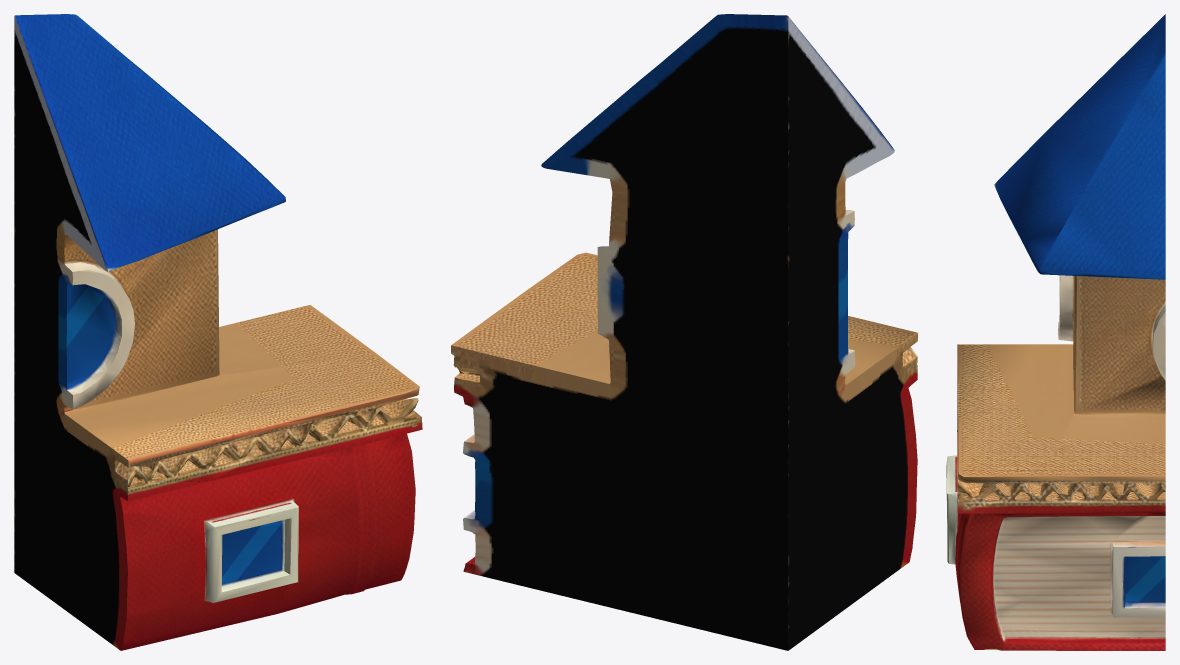
File: 14-topper-front-right.fbx
3 views of the same model, side by side, from view 1: azimuth 30°, elevation 25°; view 2: azimuth 150°, elevation 25°; view 3: azimuth 270°, elevation 25° (orthographic). The views are drawn at different scales.
Visible parts, largest first — view 1: topper-front-right; view 2: topper-front-right; view 3: topper-front-right.
Part boxes in pixels (bbox=[...]): topper-front-right: bbox=[14, 14, 422, 650]; topper-front-right: bbox=[451, 14, 917, 650]; topper-front-right: bbox=[946, 14, 1165, 650].
Size of the model in its own units: 4292 by 7725 by 3011.
Materials: 1 (1 with a texture image).
